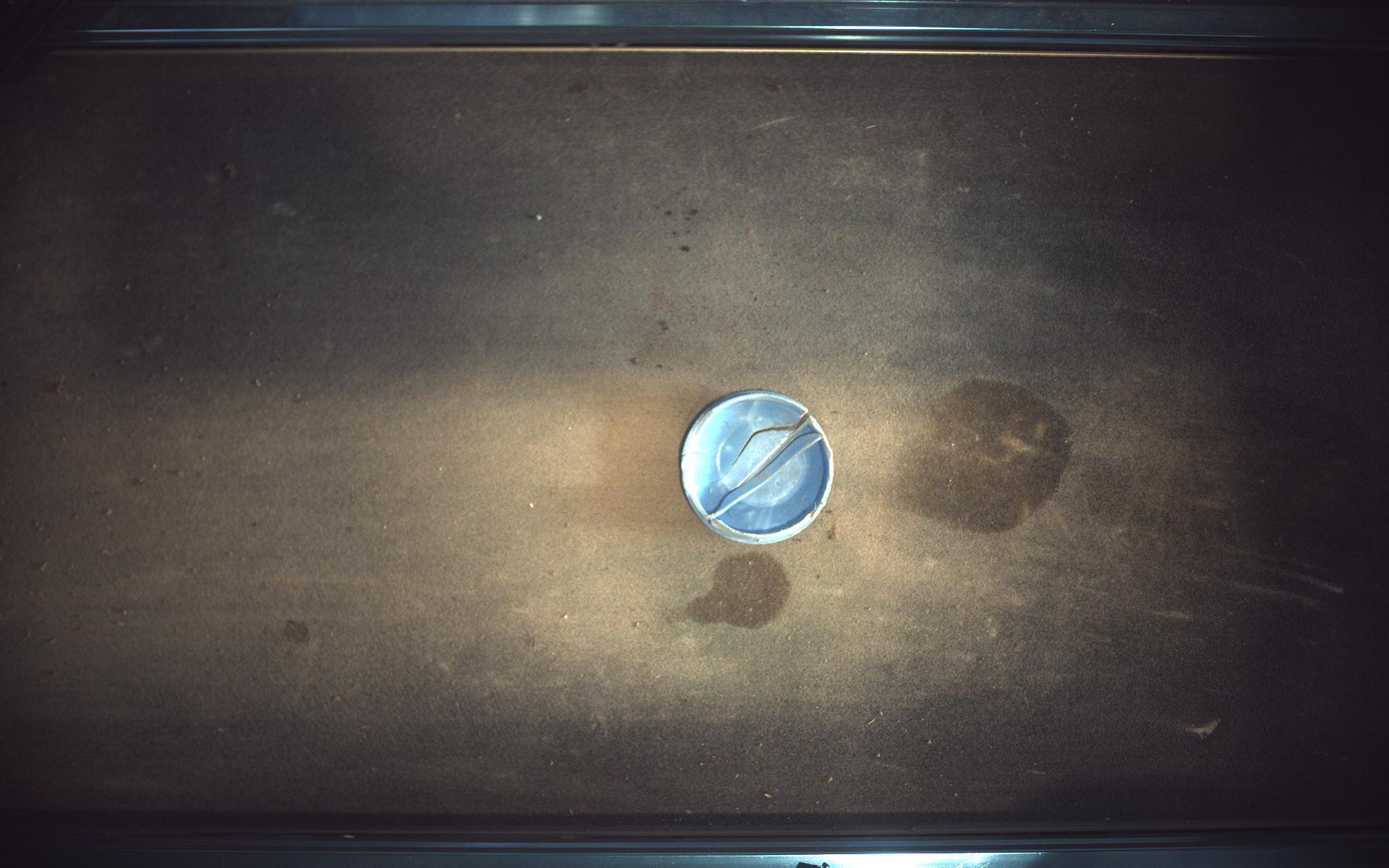plastic: (682, 391, 835, 545)
